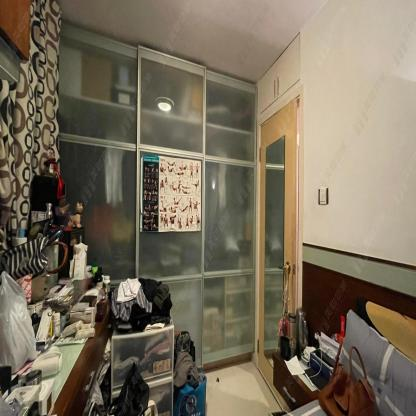Closet: (59, 20, 258, 371)
Door: (257, 95, 300, 394)
